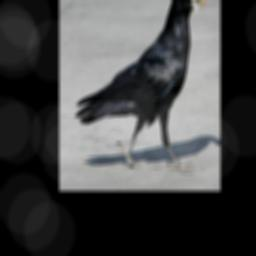Crow: (74, 0, 204, 172)
